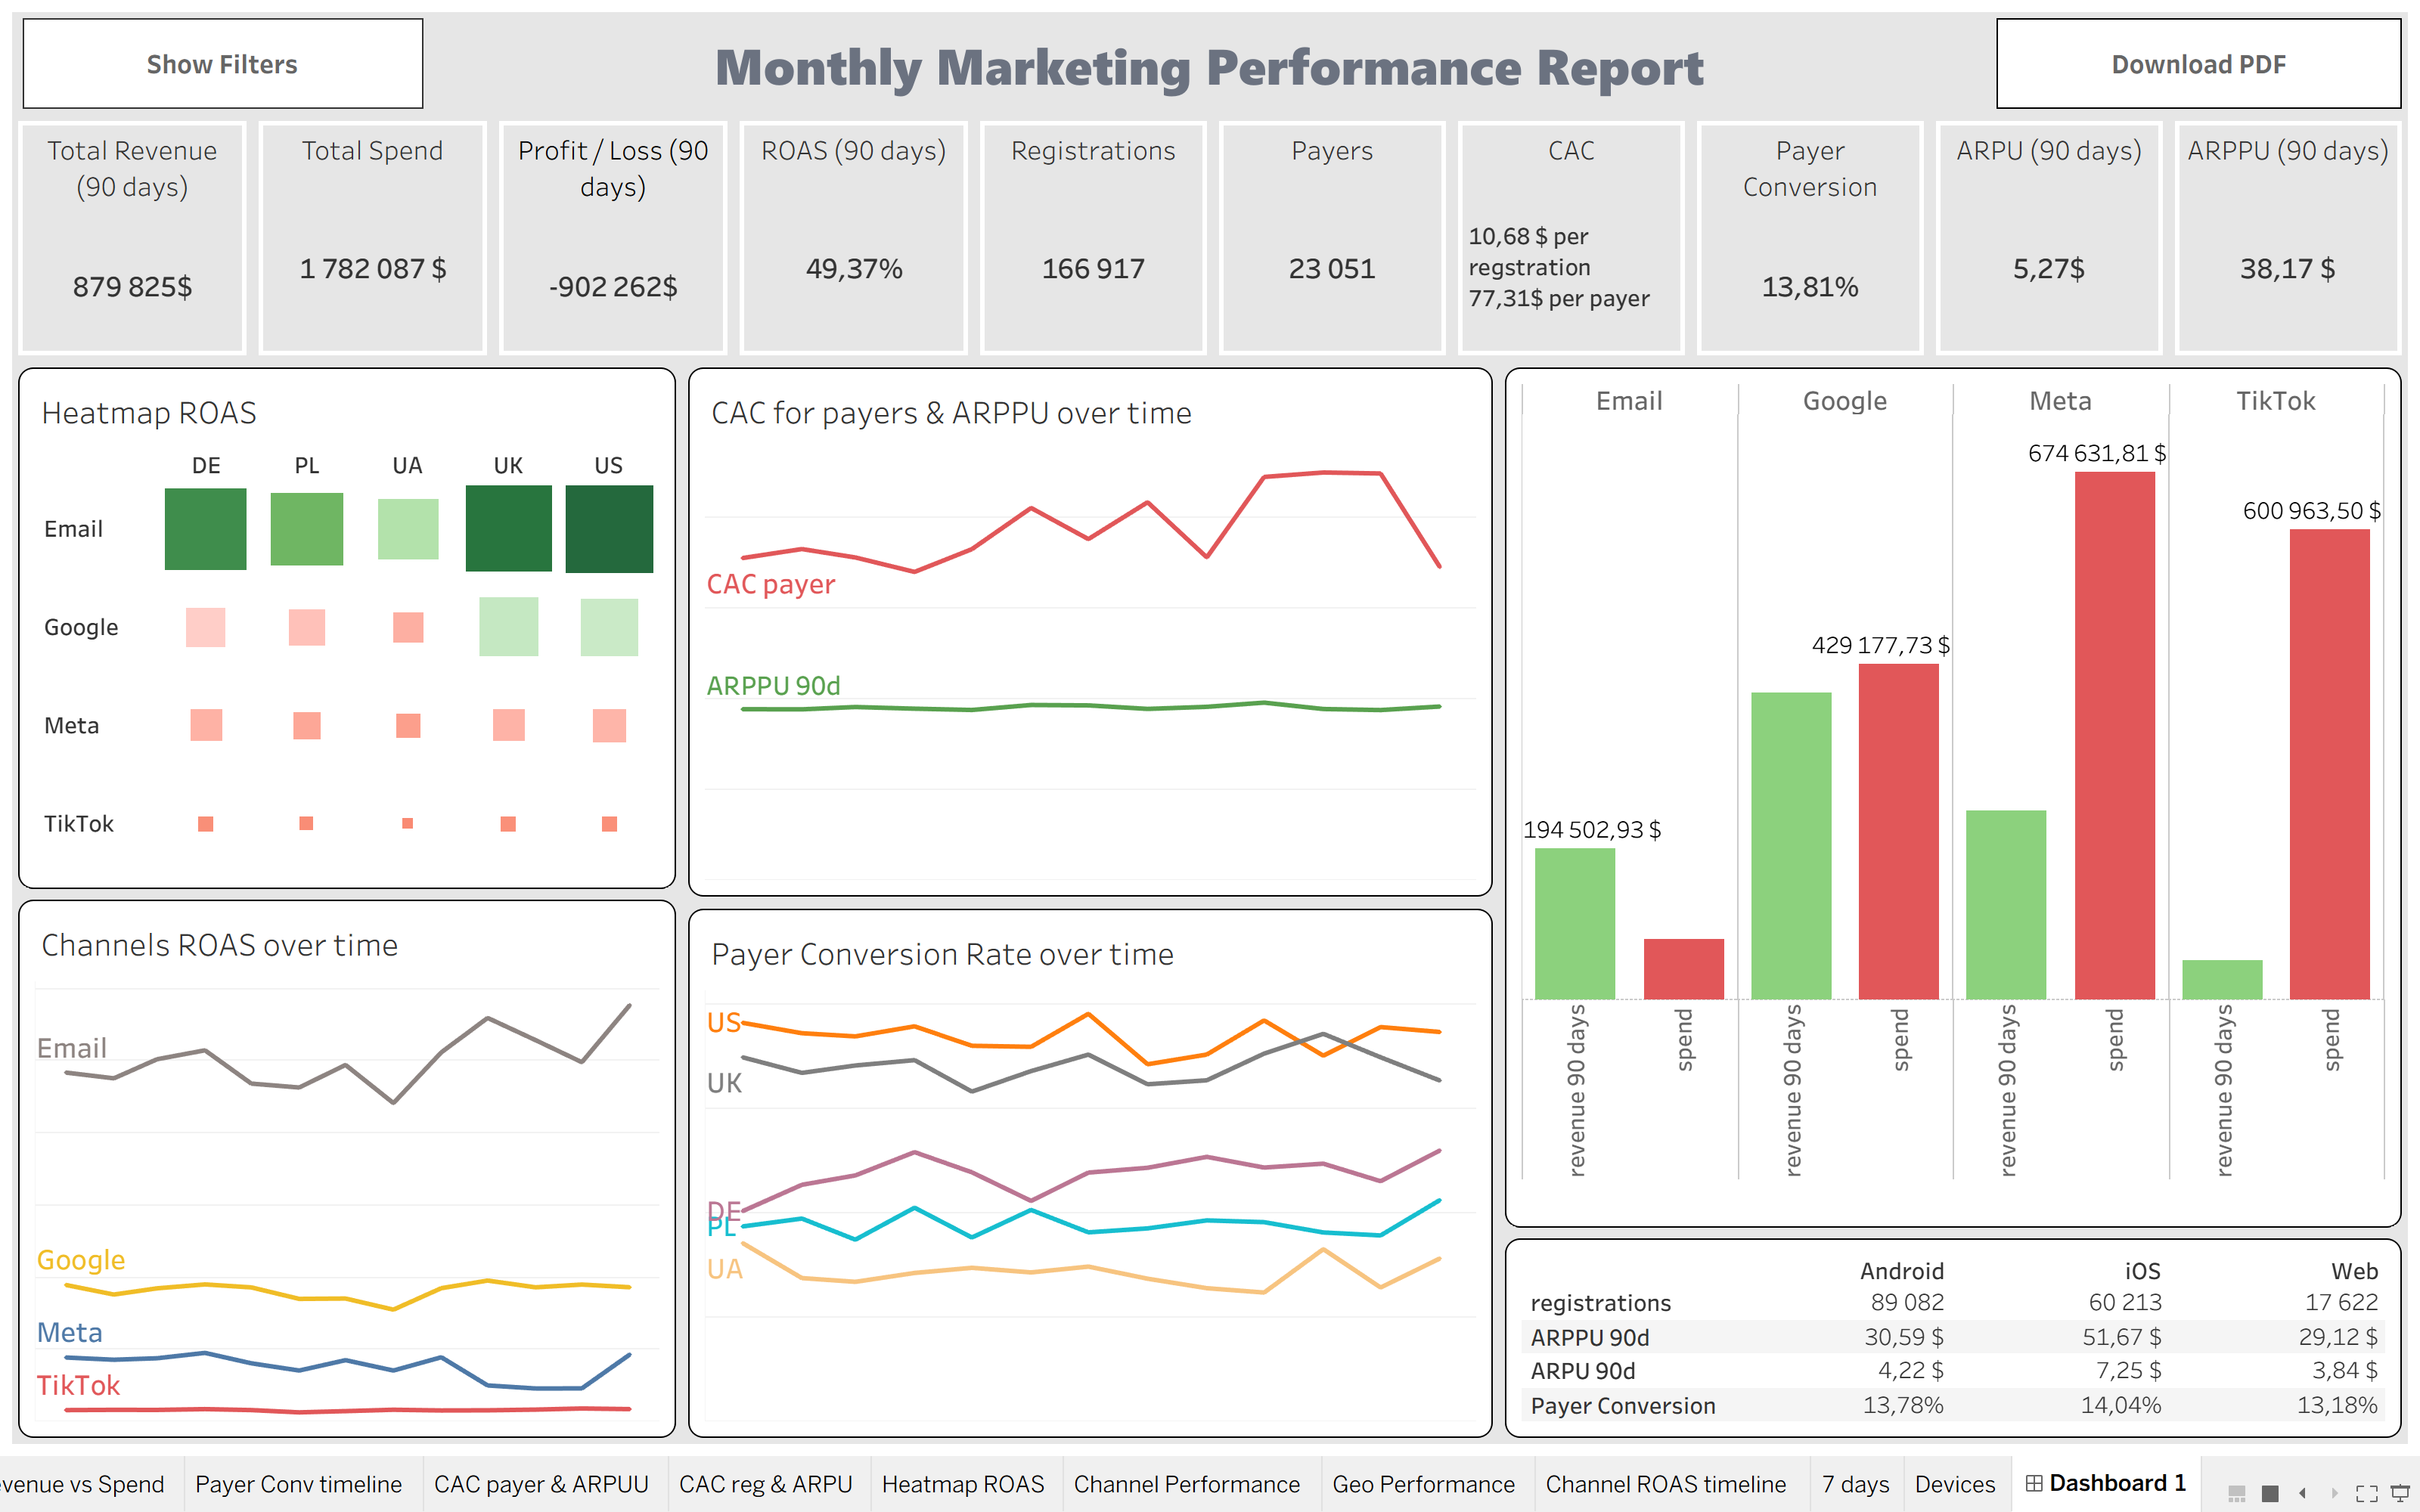

The page's visual inventory and layout, read from the dashboard file:
{"tool":"tableau","page":{"name":"Dashboard 1","canvas":[1000,1000],"units":"permille","ordinal":0},"visuals":[{"type":"dashboard-object","box":[8,10.4,170.2,70.2]},{"type":"text","box":[178.2,10.4,643.4,70.2]},{"type":"dashboard-object","box":[821.6,10.4,172.4,70.2]},{"type":"filter","title":"Total Spend","param":"[federated.0eu2dor09euggp14kfxz30oru7hq].[my:date:ok]","box":[4.4,73.7,234.4,85.2]},{"type":"worksheet","title":"Revenue 90d","mark":"Automatic","box":[6,80.3,99.3,168.4]},{"type":"worksheet","title":"Total Spend","mark":"Automatic","box":[105.3,80.3,99.3,168.4]},{"type":"worksheet","title":"Profit / Loss 90d","mark":"Automatic","box":[204.6,80.3,99.3,168.4]},{"type":"worksheet","title":"ROAS 90d","mark":"Automatic","box":[304,80.3,98.6,168.4]},{"type":"worksheet","title":"Registrations","mark":"Automatic","box":[402.5,80.3,98.6,168.4]},{"type":"worksheet","title":"Payers","mark":"Automatic","box":[501.1,80.3,98.6,168.4]},{"type":"worksheet","title":"CAC","mark":"Automatic","box":[599.7,80.3,98.6,168.4]},{"type":"worksheet","title":"Payer CR","mark":"Automatic","box":[698.3,80.3,98.6,168.4]},{"type":"worksheet","title":"ARPU 90d","mark":"Automatic","box":[796.9,80.3,98.6,168.4]},{"type":"worksheet","title":"ARPPU 90d","mark":"Automatic","box":[895.4,80.3,98.6,168.4]},{"type":"filter","title":"Total Spend","param":"[federated.0eu2dor09euggp14kfxz30oru7hq].[none:channel:nk]","box":[4.4,158.9,234.4,85.2]},{"type":"filter","title":"Total Spend","param":"[federated.0eu2dor09euggp14kfxz30oru7hq].[none:geo:nk]","box":[4.4,244,234.4,85.2]},{"type":"worksheet","title":"Heatmap ROAS","mark":"Automatic","rows":["channel"],"cols":["geo"],"box":[6,248.7,276.4,364.7]},{"type":"worksheet","title":"CAC payer & ARPUU","mark":"Automatic","rows":["Calculation_1447510352642053","Calculation_1447510356840456"],"cols":["date"],"box":[282.4,248.7,336.6,370.5]},{"type":"worksheet","title":"Revenue vs Spend","mark":"Automatic","cols":["channel"],"box":[619,248.7,375.1,559.6]},{"type":"worksheet","title":"Channel ROAS timeline","mark":"Automatic","rows":["Calculation_1447510347497473"],"cols":["date"],"box":[6,613.3,276.4,376.3]},{"type":"worksheet","title":"Payer Conv timeline","mark":"Automatic","rows":["Calculation_1447510351323140"],"cols":["date"],"box":[282.4,619.1,336.6,370.5]},{"type":"worksheet","title":"Devices","mark":"Automatic","cols":["device_os"],"box":[619,808.3,375.1,181.3]}]}

Visuals, with their boxes on the dashboard's canvas, which has no fixed pixel size, in thousandths of its width and height (x1, y1, x2, y2). These are canvas units, not pixel positions in the 2420x1512 screenshot, which may show the page scaled, cropped or inside an application window:
dashboard-object: x1=8 y1=10 x2=178 y2=81
text: x1=178 y1=10 x2=822 y2=81
dashboard-object: x1=822 y1=10 x2=994 y2=81
"Total Spend" filter: x1=4 y1=74 x2=239 y2=159
"Revenue 90d" worksheet: x1=6 y1=80 x2=105 y2=249
"Total Spend" worksheet: x1=105 y1=80 x2=205 y2=249
"Profit / Loss 90d" worksheet: x1=205 y1=80 x2=304 y2=249
"ROAS 90d" worksheet: x1=304 y1=80 x2=403 y2=249
"Registrations" worksheet: x1=402 y1=80 x2=501 y2=249
"Payers" worksheet: x1=501 y1=80 x2=600 y2=249
"CAC" worksheet: x1=600 y1=80 x2=698 y2=249
"Payer CR" worksheet: x1=698 y1=80 x2=797 y2=249
"ARPU 90d" worksheet: x1=797 y1=80 x2=896 y2=249
"ARPPU 90d" worksheet: x1=895 y1=80 x2=994 y2=249
"Total Spend" filter: x1=4 y1=159 x2=239 y2=244
"Total Spend" filter: x1=4 y1=244 x2=239 y2=329
"Heatmap ROAS" worksheet: x1=6 y1=249 x2=282 y2=613
"CAC payer & ARPUU" worksheet: x1=282 y1=249 x2=619 y2=619
"Revenue vs Spend" worksheet: x1=619 y1=249 x2=994 y2=808
"Channel ROAS timeline" worksheet: x1=6 y1=613 x2=282 y2=990
"Payer Conv timeline" worksheet: x1=282 y1=619 x2=619 y2=990
"Devices" worksheet: x1=619 y1=808 x2=994 y2=990
